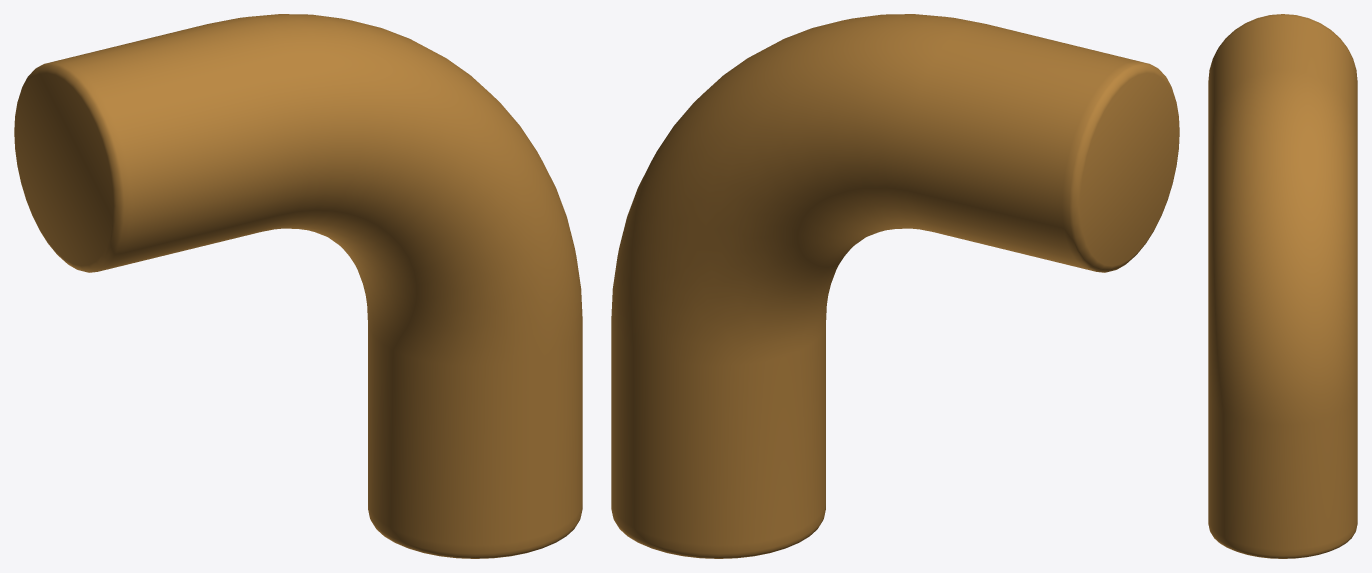
File: Pipe_Corner_Cap.fbx
3 renders of one model, left to right at view 1: azimuth 30°, elevation 25°; view 2: azimuth 150°, elevation 25°; view 3: azimuth 270°, elevation 25°, orthographic. The views are drawn at different scales.
Parts seen in each view (by area): view 1: Corner_Smooth; view 2: Corner_Smooth; view 3: Corner_Smooth.
Boxes of the visible parts, x1,y1,x2,y2 form: Corner_Smooth: [14, 14, 582, 558]; Corner_Smooth: [611, 14, 1179, 558]; Corner_Smooth: [1208, 14, 1357, 558].
Bounding box in the file's own units: 47.11 × 48.56 × 17.39.
